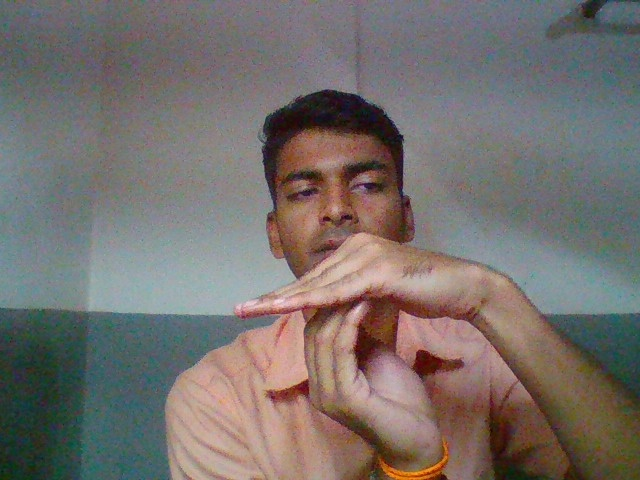J: (215, 222, 532, 464)
